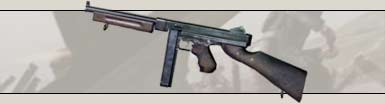rifle: (56, 5, 309, 97)
